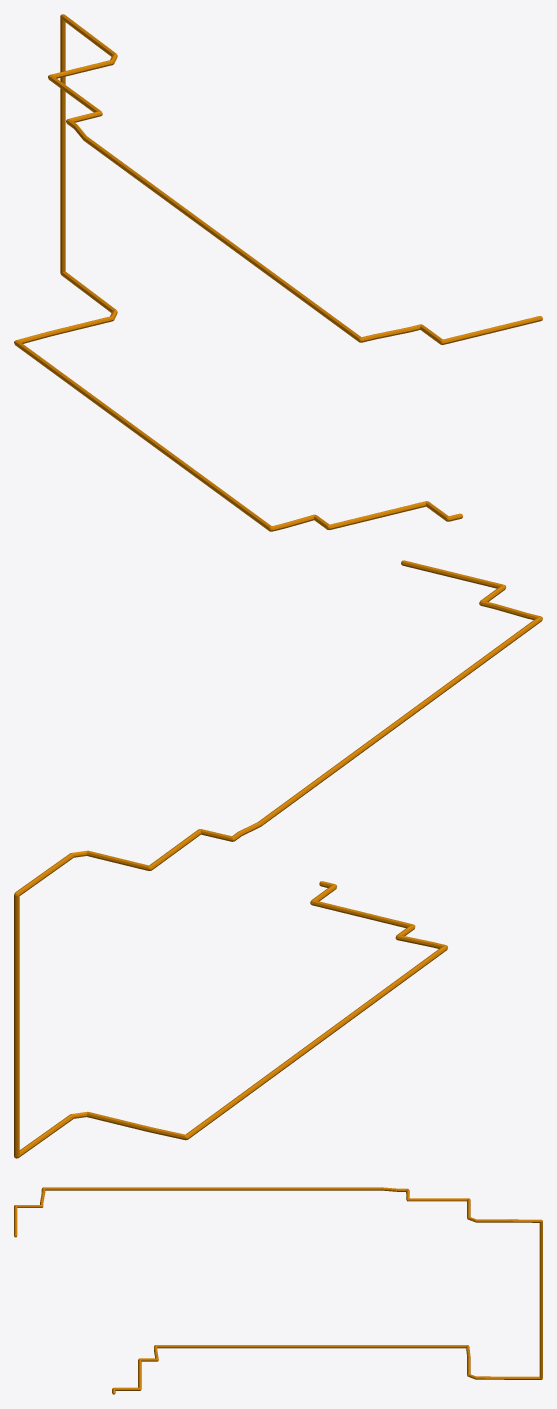
The picture shows the model from 3 angles, top to bottom: view 1: azimuth 30°, elevation 25°; view 2: azimuth 150°, elevation 25°; view 3: azimuth 270°, elevation 25°; orthographic projection. The views are drawn at different scales.
Size of the model in its own units: 660 by 1020 by 3051.
